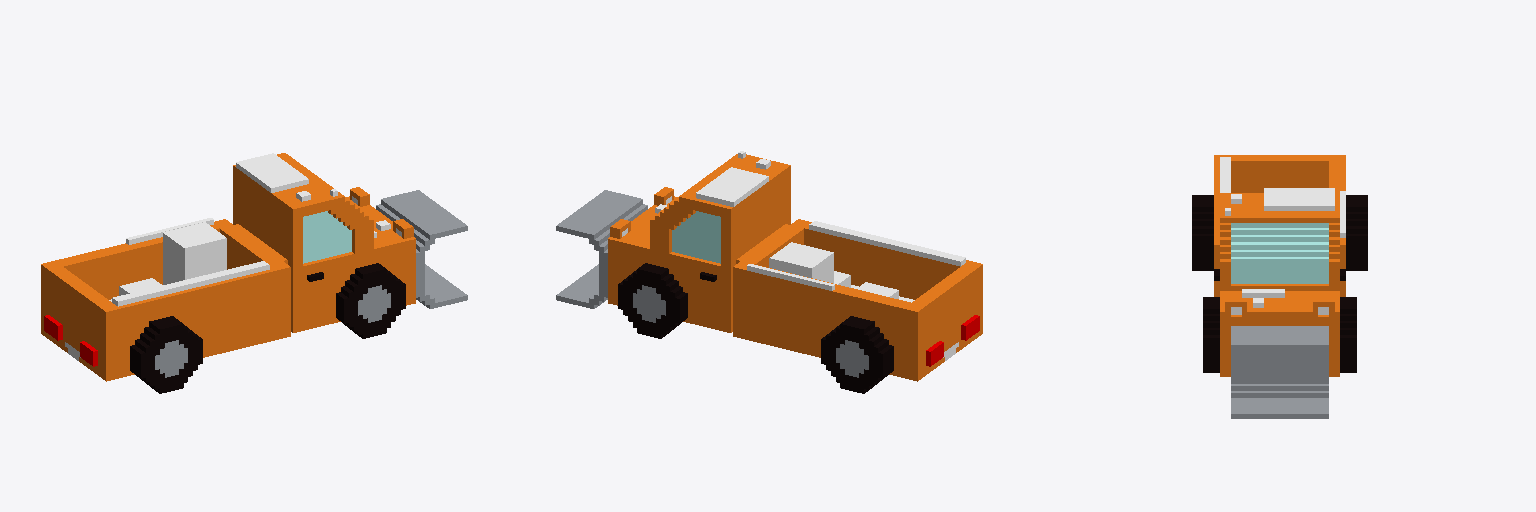
3 renders of one model, left to right at view 1: azimuth 30°, elevation 25°; view 2: azimuth 150°, elevation 25°; view 3: azimuth 270°, elevation 25°, orthographic.
Parts seen in each view (by area): view 1: object 1; view 2: object 1; view 3: object 1.
Boxes of the visible parts, x1=… form: object 1: x1=41, y1=153, x2=467, y2=393; object 1: x1=556, y1=151, x2=982, y2=393; object 1: x1=1192, y1=155, x2=1367, y2=418.
Bounding box in the file's own units: 7.9 × 2.9 × 3.2.
Materials: 1 (1 with a texture image).